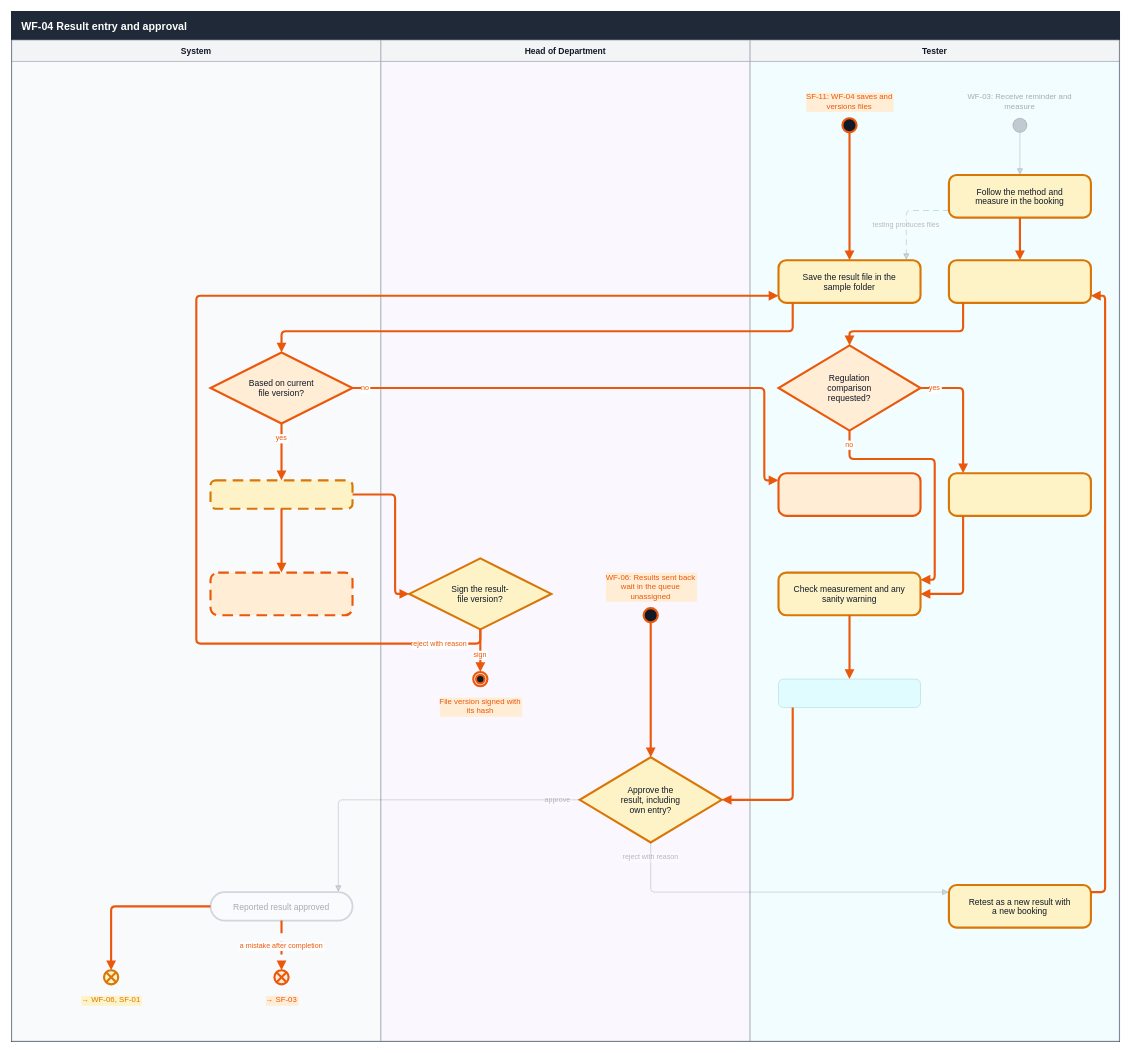
Image size: 1131x1053. Some labels were removed from this diagram. The shapes that lost their labels are listed below. From the top down, each one's centre as x and y in pixels, then its label:
the point at 1019,281: Record value with snapshot unit and LOD/LOQ
the point at 281,494: New current version
the point at 849,494: Keep both conflict versions and take the server version with a local backup
the point at 1019,494: Assess exact type limit: pass, fail or insufficient basis
the point at 281,593: Download to colleagues' two-way folders
the point at 849,693: Send and sign
